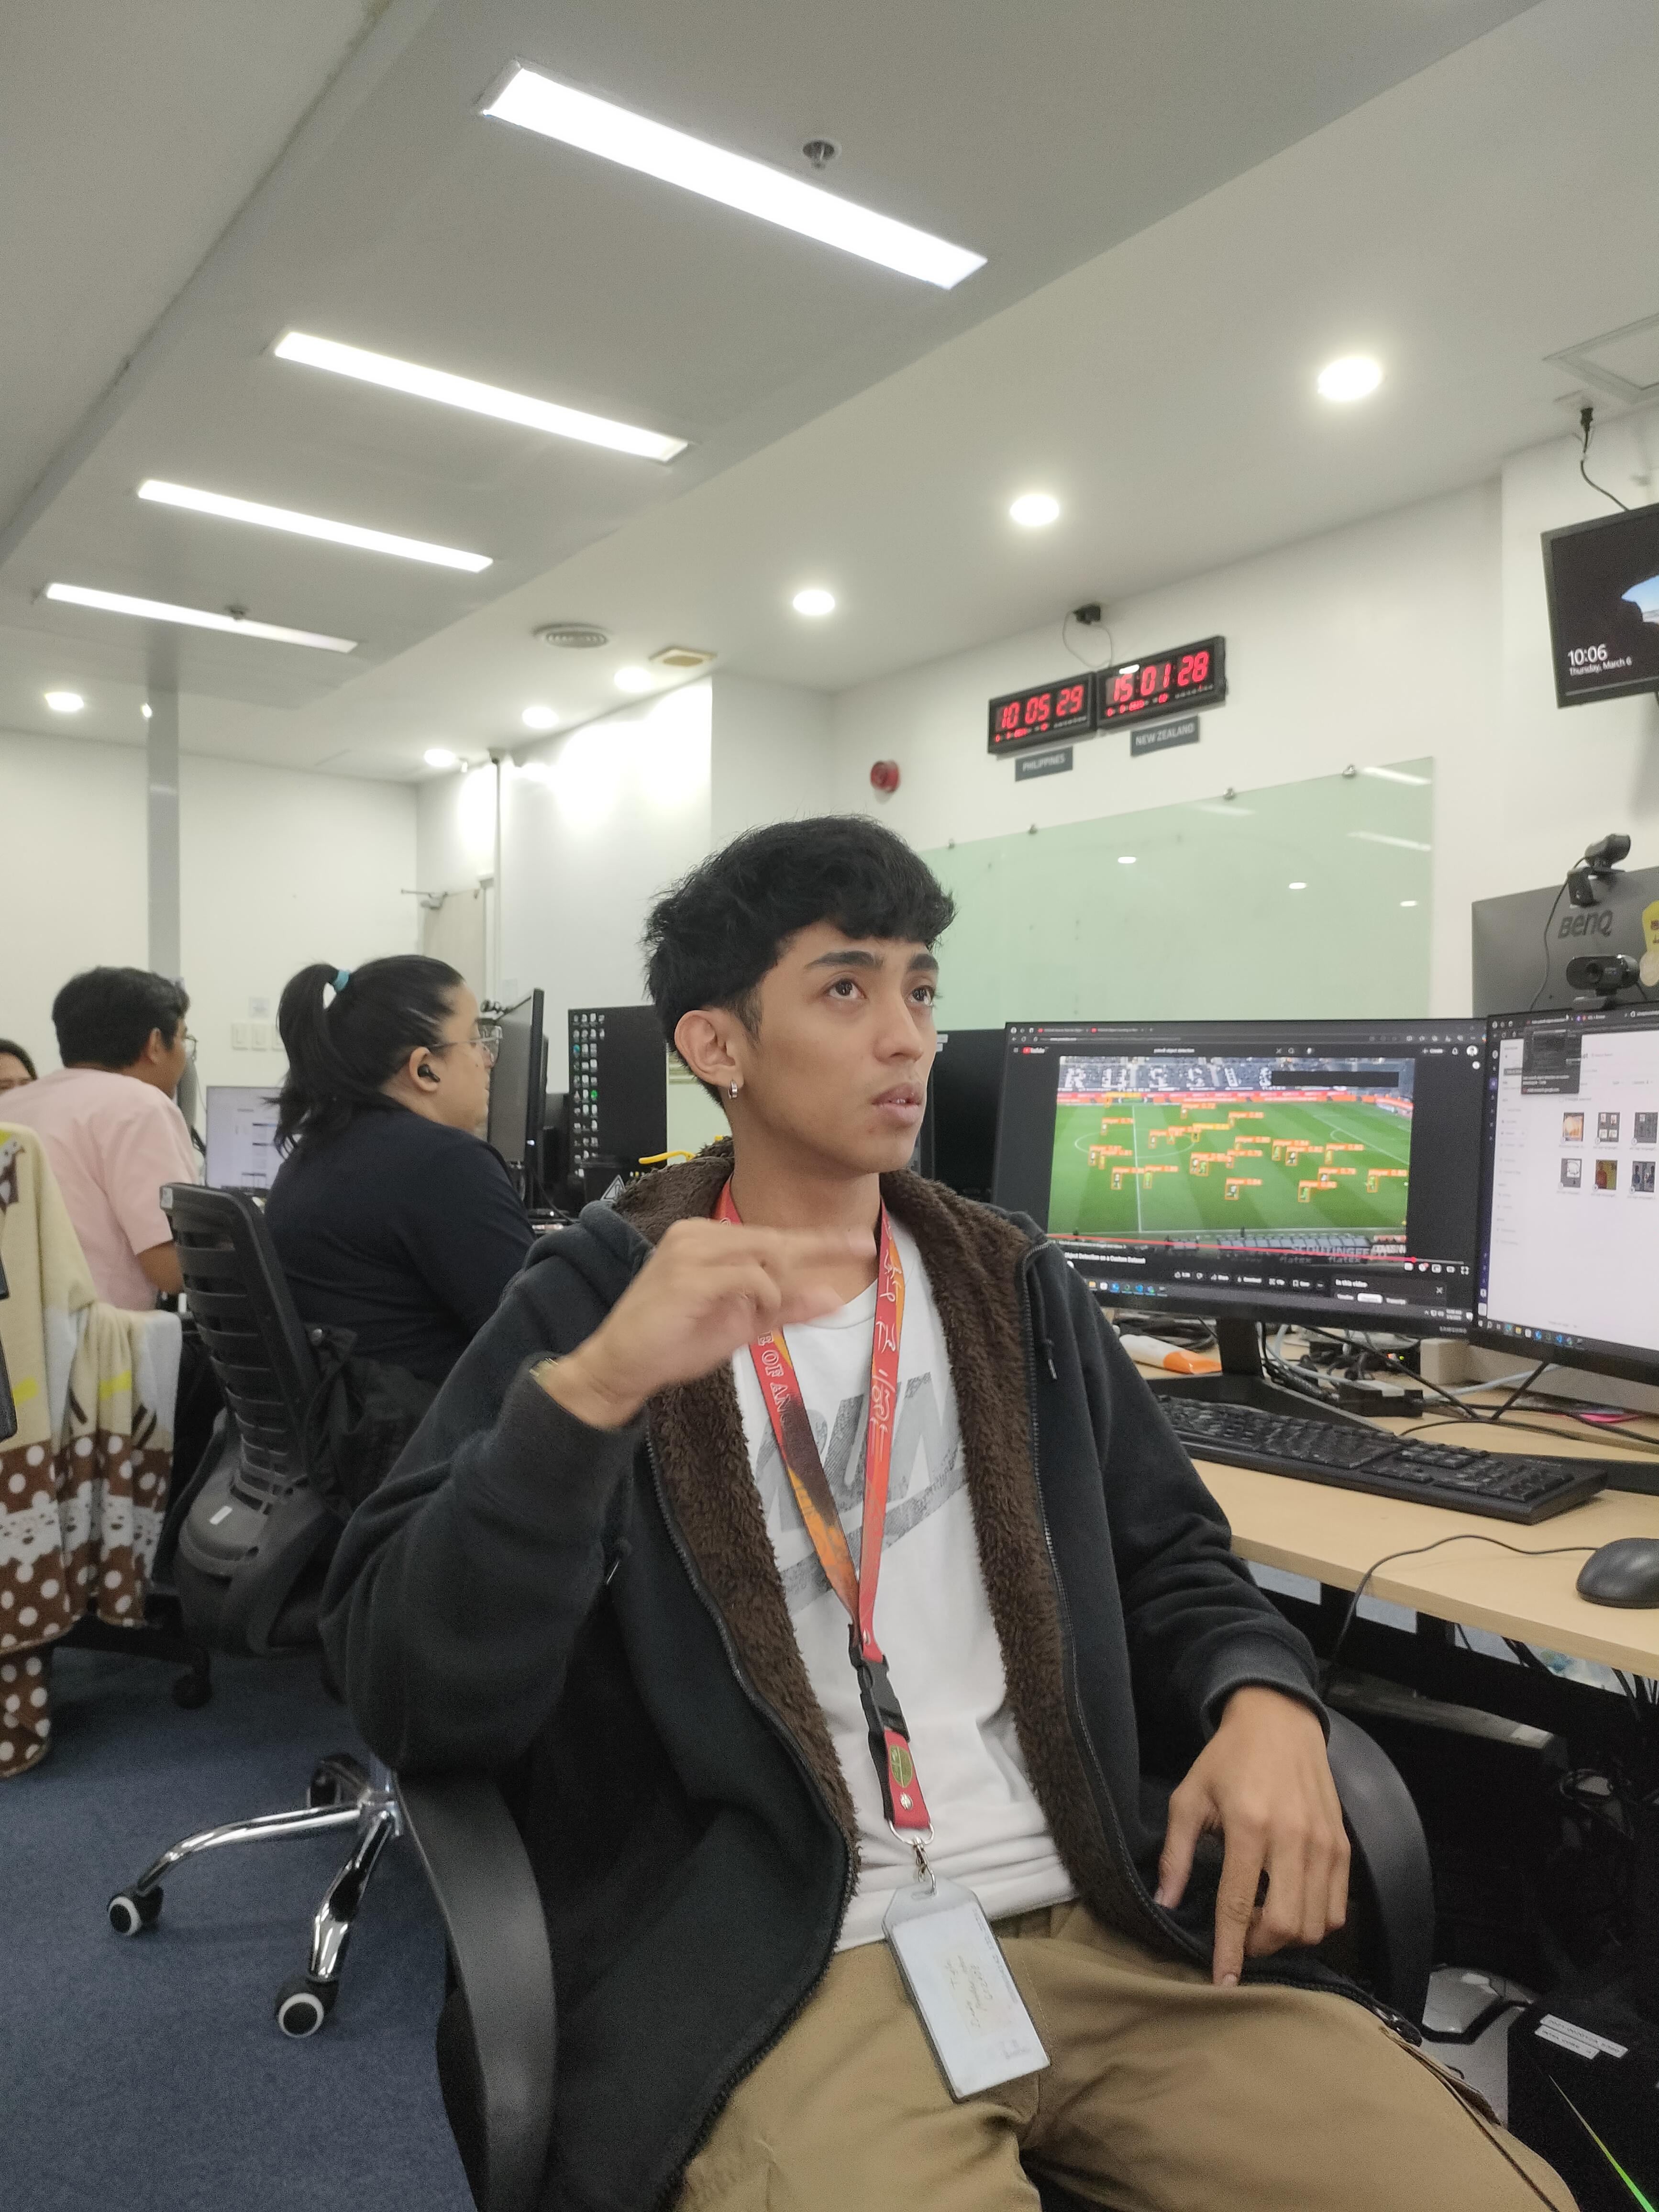No: (540, 1193, 910, 1406)
